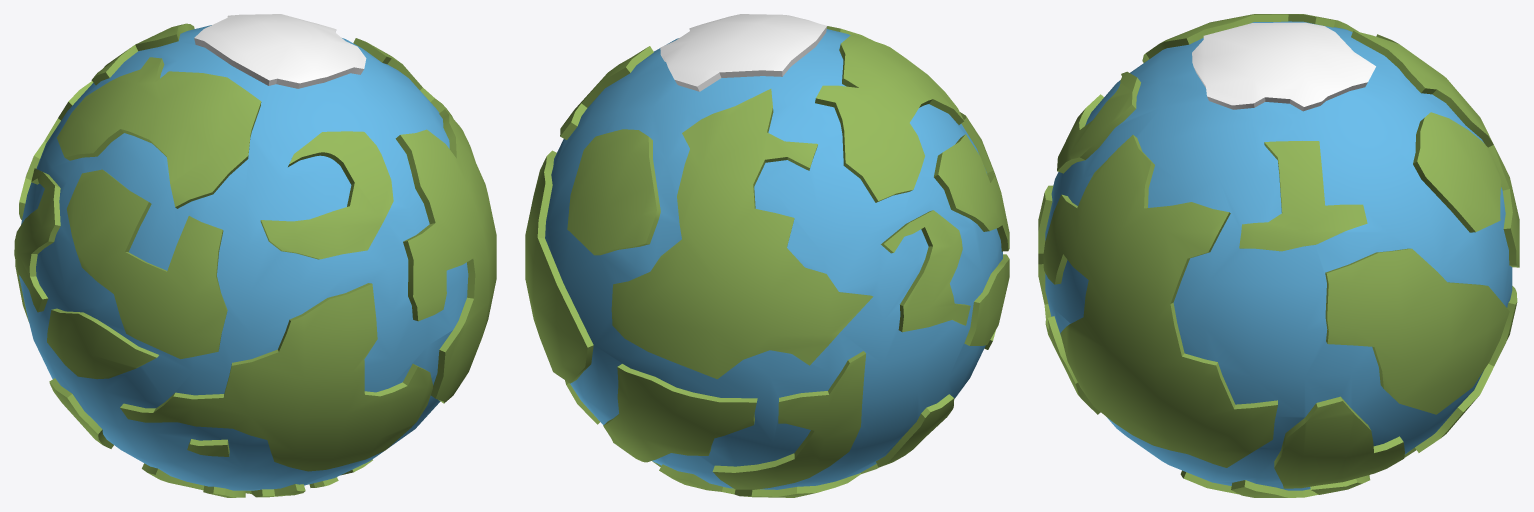
File: Planet_Placeholder.fbx
3 views of the same model, side by side, from view 1: azimuth 30°, elevation 25°; view 2: azimuth 150°, elevation 25°; view 3: azimuth 270°, elevation 25° (orthographic).
Parts seen in each view (by area): view 1: Earth; view 2: Earth; view 3: Earth.
Part boxes in pixels (left/top/right/bottom): Earth: left=14, top=14, right=496, bottom=497; Earth: left=525, top=14, right=1009, bottom=497; Earth: left=1038, top=14, right=1519, bottom=497.
Bounding box in the file's own units: 198 × 200 × 200.
